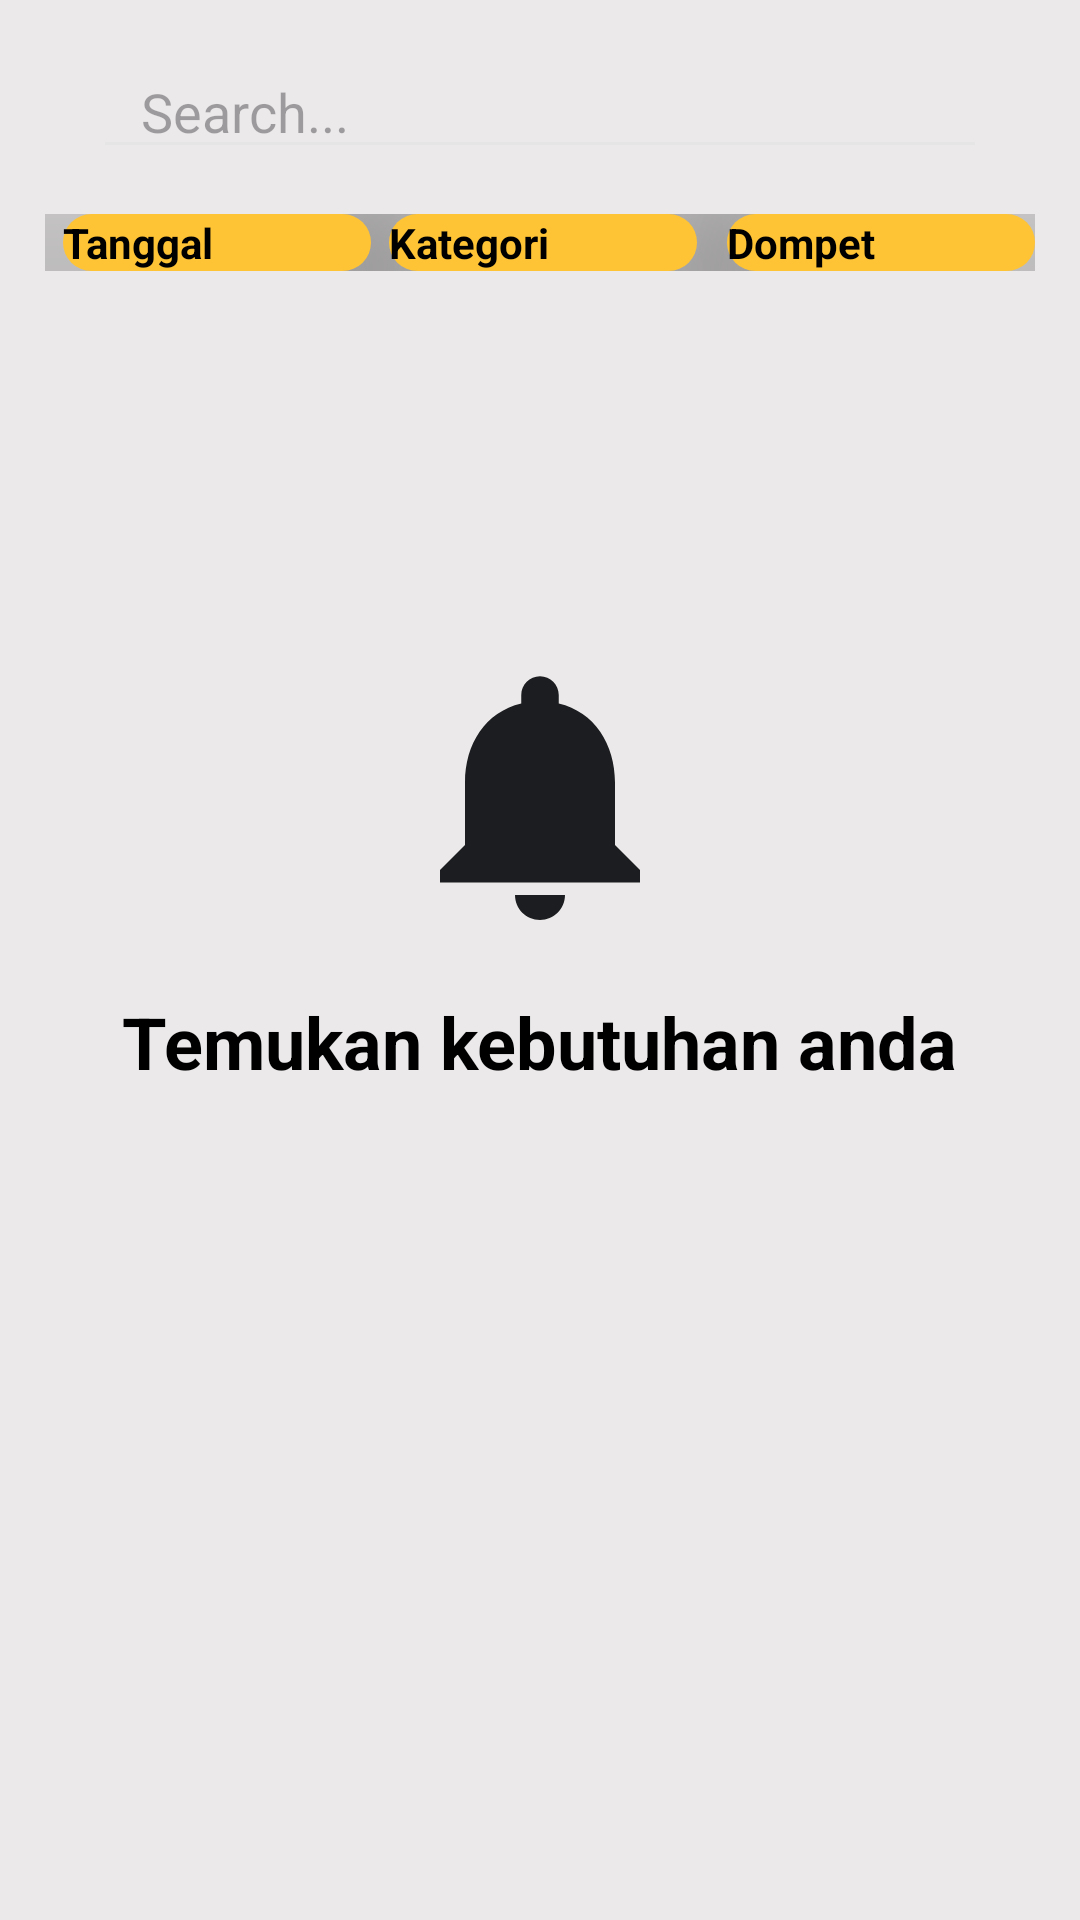

Named icons in this screenshot (1080px x 1920px) and their centers, point (x, y):
notifikasi: point (540, 798)
